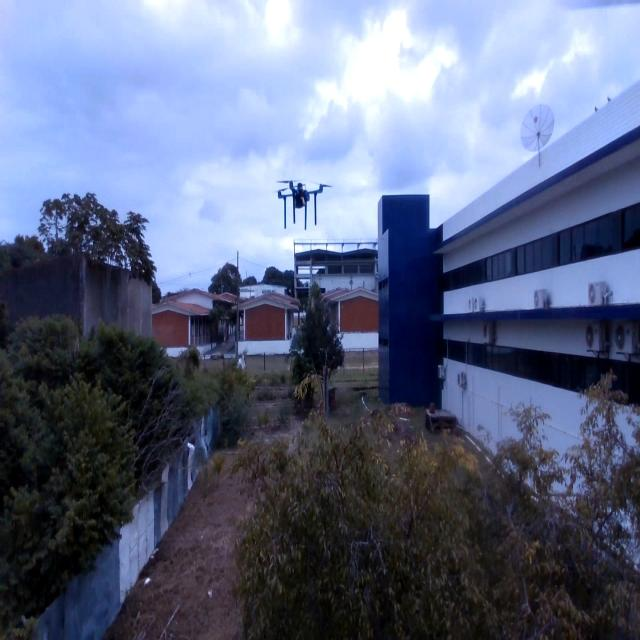-uav-: (272, 167, 332, 240)
